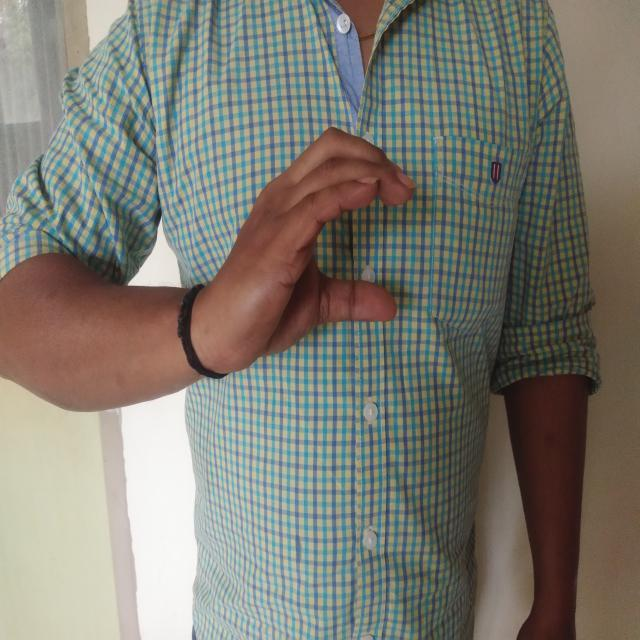c: (192, 112, 432, 392)
